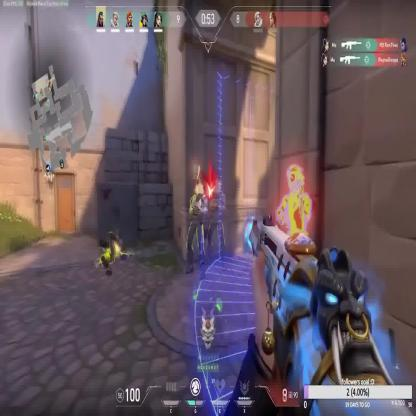enemy: (274, 159, 315, 346)
enemy_head: (287, 167, 302, 194)
